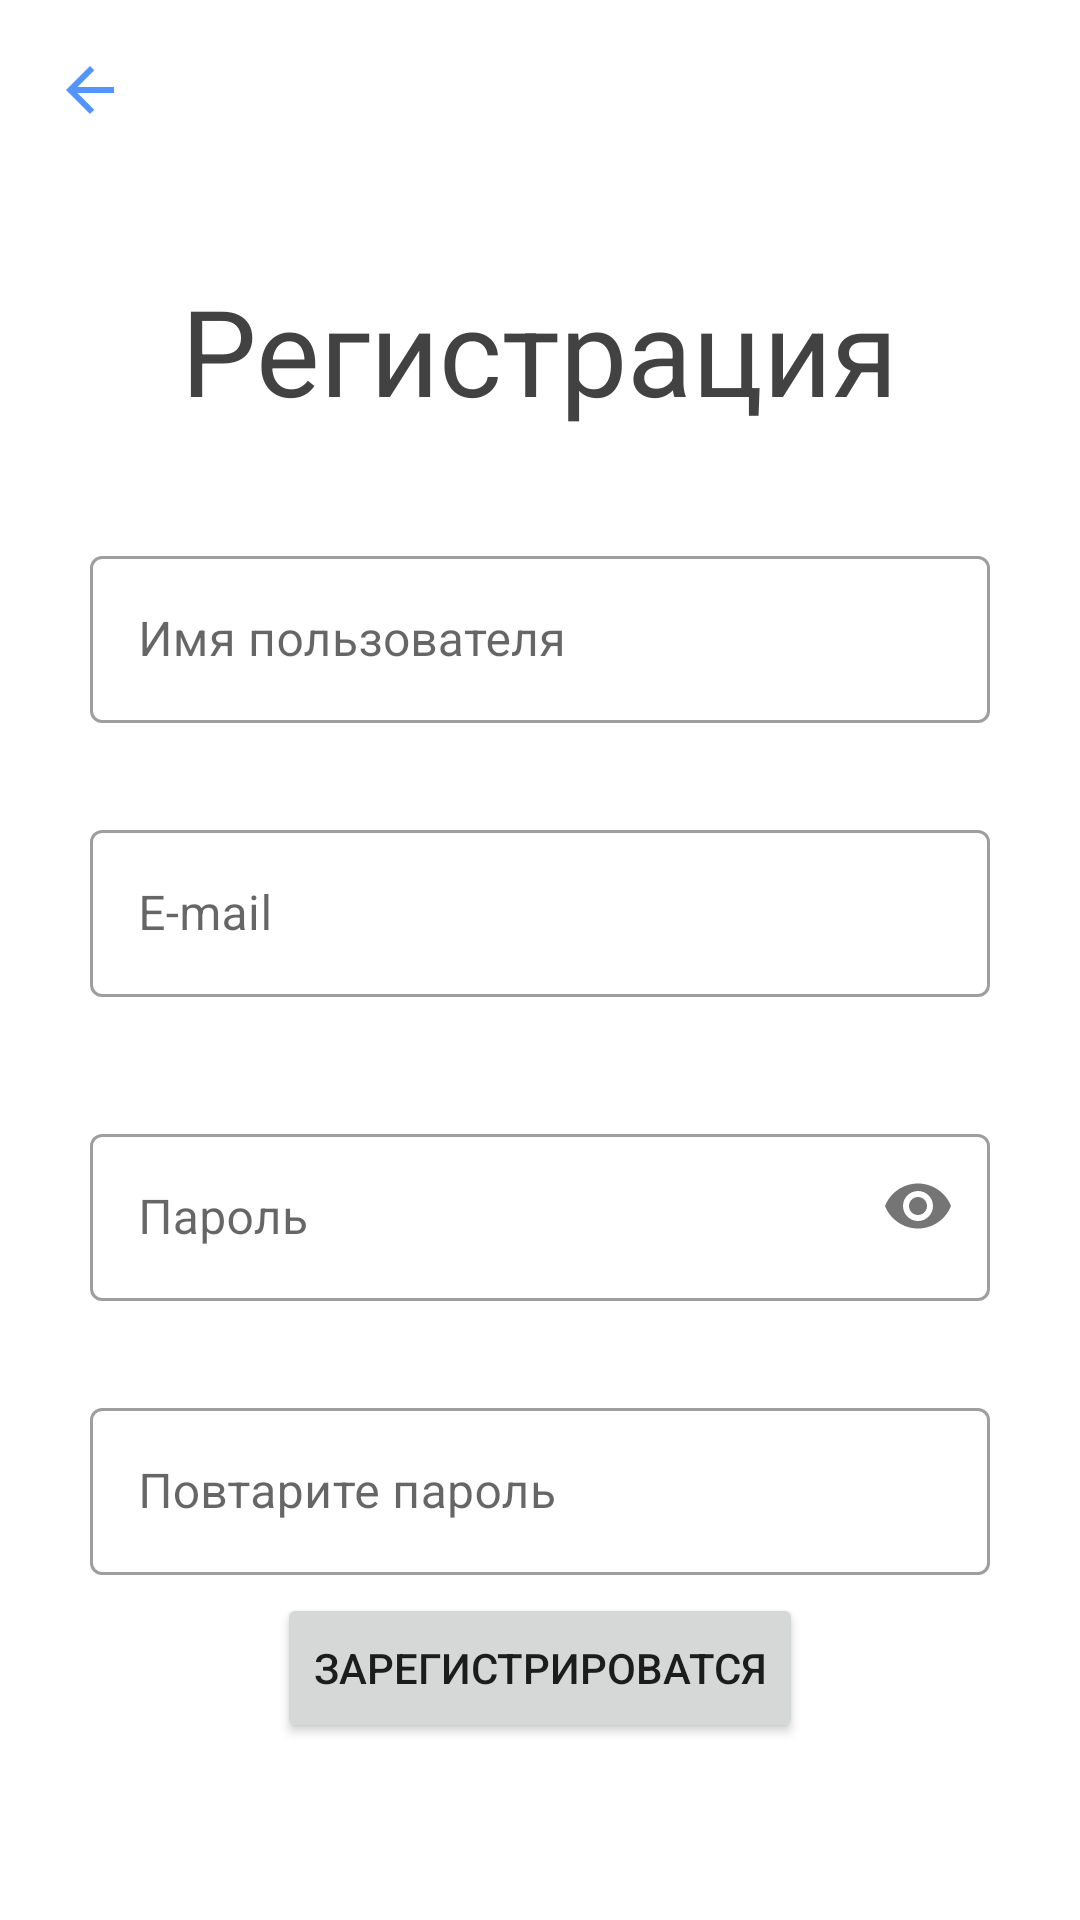

Named icons in this screenshot (1080×1920) and their centers, (x,y):
back: (90,90)
